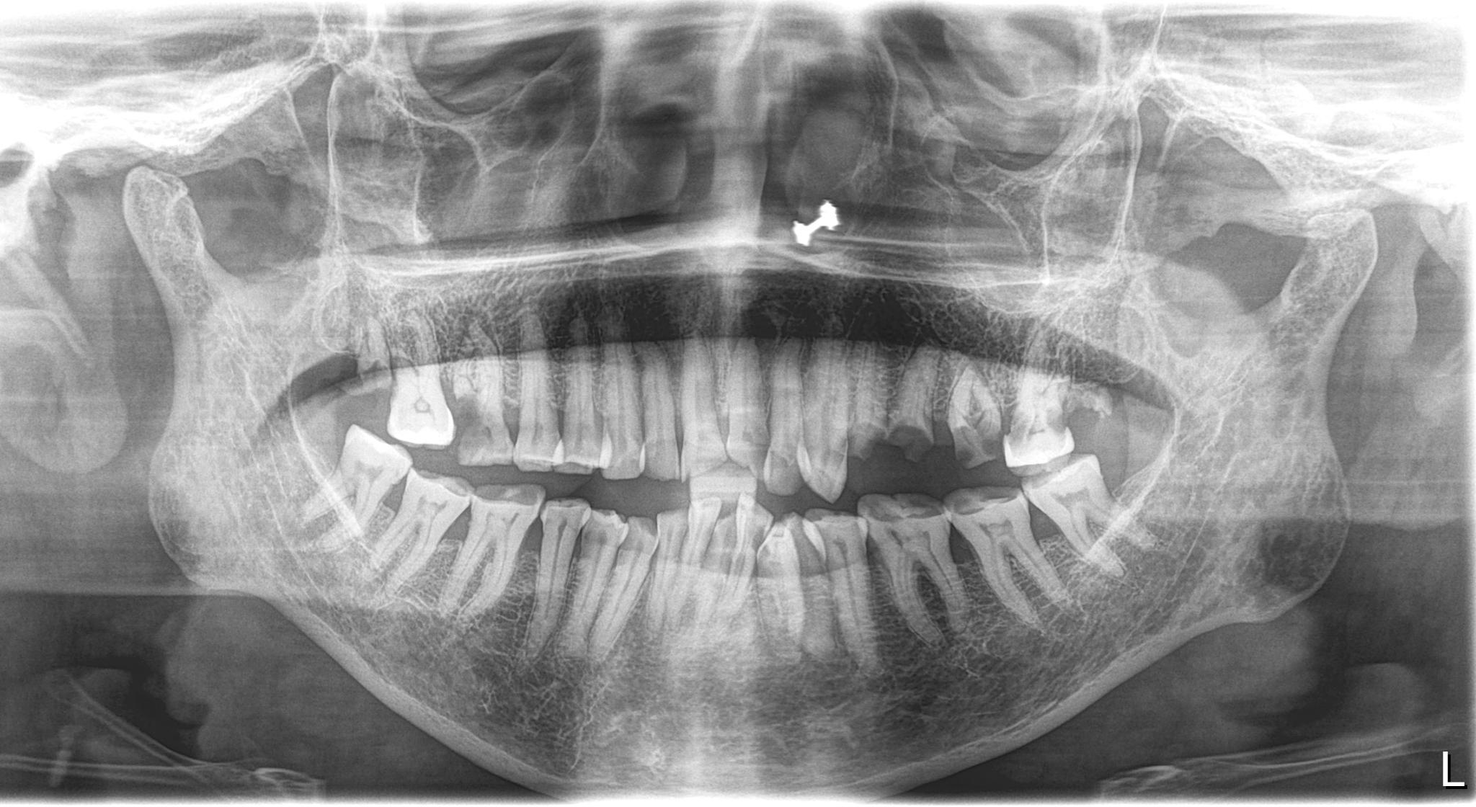Attrition: (809, 487, 1018, 540), (407, 468, 563, 523)
Missing Tooth: (1074, 373, 1131, 459)
Retained Root: (841, 348, 896, 462), (351, 308, 401, 413), (946, 357, 994, 463), (901, 355, 938, 475)
